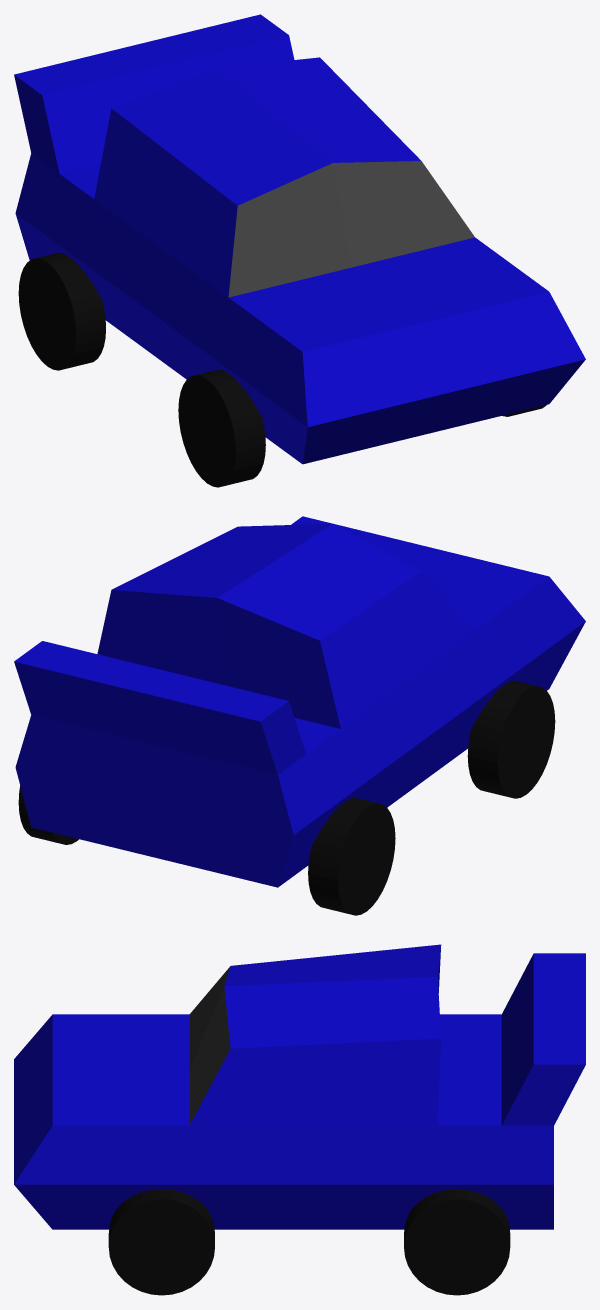
Rendered from cute_car.obj.
3 views of the same model, one above another, from view 1: azimuth 30°, elevation 25°; view 2: azimuth 150°, elevation 25°; view 3: azimuth 270°, elevation 25° (orthographic). The views are drawn at different scales.
Parts seen in each view (by area): view 1: CuteCar; view 2: CuteCar; view 3: CuteCar.
Part boxes in pixels (x1,y1,x2,y2): CuteCar: (14,14,585,487); CuteCar: (14,516,585,915); CuteCar: (14,944,585,1295).
Bounding box in the file's own units: 1.95 × 1.56 × 3.27.
